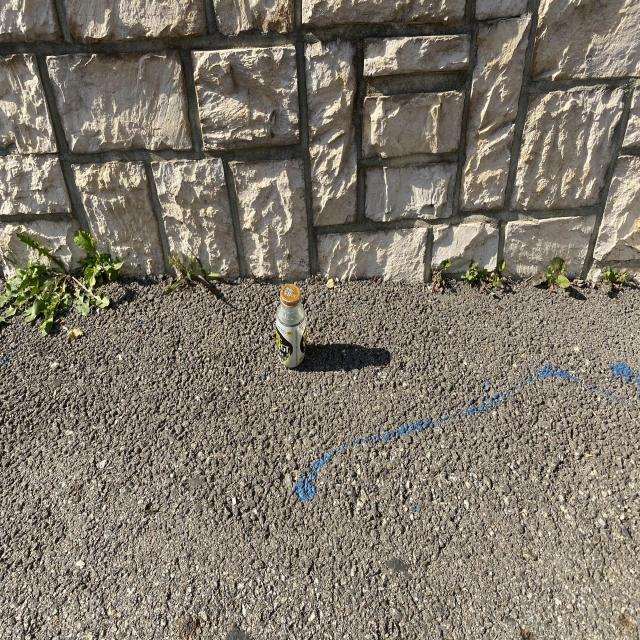glass: (275, 283, 307, 368)
